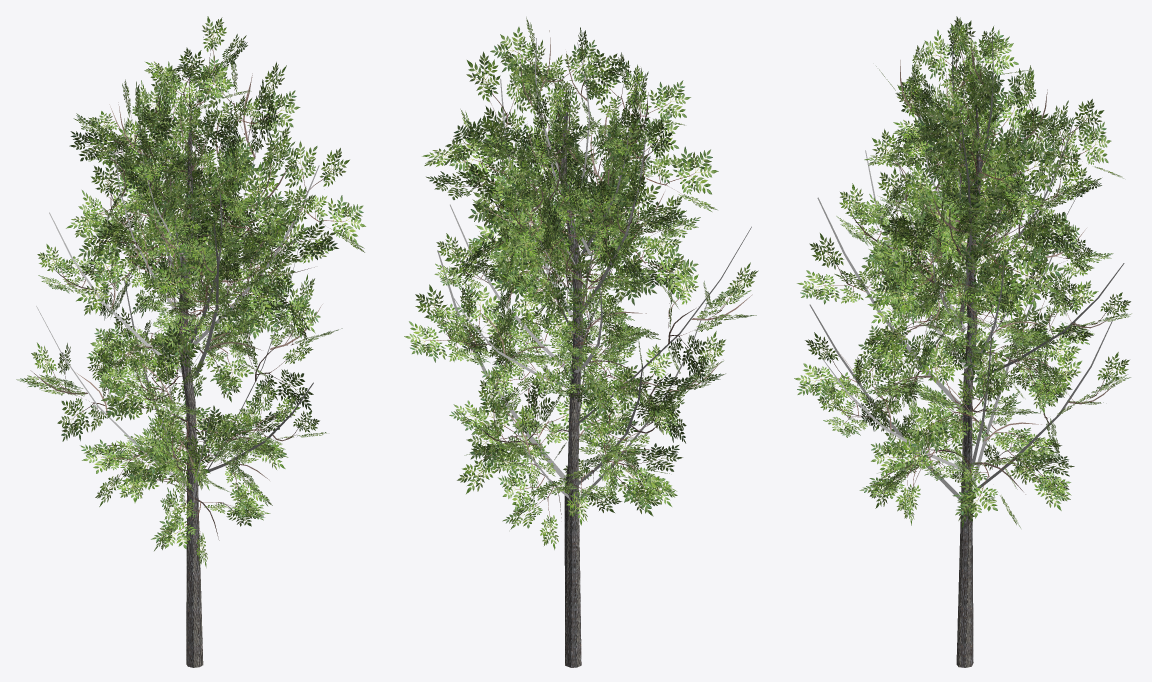
Rendered from tree2.fbx.
The picture shows the model from 3 angles, left to right: view 1: azimuth 30°, elevation 25°; view 2: azimuth 150°, elevation 25°; view 3: azimuth 270°, elevation 25°; orthographic projection. The views are drawn at different scales.
Visible parts, largest first — view 1: Mesh43 Component_1_1 Fraxinus___Green_Ash_Tree_1_1 Model, Mesh285 Component_13_108 Component_16_108 Component_3_108 Co, Mesh426 Component_13_163 Component_16_163 Component_3_163 Co, Mesh395 Component_13_151 Component_16_151 Component_3_151 Co, Mesh429 Component_13_164 Component_16_164 Component_3_164 Co, Mesh452 Component_13_173 Component_16_173 Component_3_173 Co, Mesh110 Component_13_42 Component_16_42 Component_3_42 Compo, Mesh107 Component_13_41 Component_16_41 Component_3_41 Compo, Mesh403 Component_13_154 Component_16_154 Component_3_154 Co, Mesh238 Component_13_91 Component_16_91 Component_3_91 Compo, Mesh22 Component_13_9 Component_16_9 Component_3_9 Component, Mesh68 Component_13_26 Component_16_26 Component_3_26 Compon (+52 smaller); view 2: Mesh43 Component_1_1 Fraxinus___Green_Ash_Tree_1_1 Model, Mesh302 Component_13_115 Component_16_115 Component_3_115 Co, Mesh297 Component_13_113 Component_16_113 Component_3_113 Co, Mesh258 Component_13_98 Component_16_98 Component_3_98 Compo, Mesh290 Component_13_110 Component_16_110 Component_3_110 Co, Mesh305 Component_13_116 Component_16_116 Component_3_116 Co, Mesh73 Component_13_28 Component_16_28 Component_3_28 Compon, Mesh300 Component_13_114 Component_16_114 Component_3_114 Co, Mesh333 Component_13_127 Component_16_127 Component_3_127 Co, Mesh310 Component_13_118 Component_16_118 Component_3_118 Co, Mesh249 Component_13_95 Component_16_95 Component_3_95 Compo, Mesh255 Component_13_97 Component_16_97 Component_3_97 Compo (+53 smaller); view 3: Mesh43 Component_1_1 Fraxinus___Green_Ash_Tree_1_1 Model, Mesh328 Component_13_125 Component_16_125 Component_3_125 Co, Mesh333 Component_13_127 Component_16_127 Component_3_127 Co, Mesh336 Component_13_128 Component_16_128 Component_3_128 Co, Mesh128 Component_13_49 Component_16_49 Component_3_49 Compo, Mesh131 Component_13_50 Component_16_50 Component_3_50 Compo, Mesh331 Component_13_126 Component_16_126 Component_3_126 Co, Mesh406 Component_13_155 Component_16_155 Component_3_155 Co, Mesh136 Component_13_52 Component_16_52 Component_3_52 Compo, Mesh400 Component_13_153 Component_16_153 Component_3_153 Co, Mesh364 Component_13_139 Component_16_139 Component_3_139 Co, Mesh125 Component_13_48 Component_16_48 Component_3_48 Compo (+51 smaller).
Boxes of the visible parts, x1,y1,x2,y2 form: Mesh43 Component_1_1 Fraxinus___Green_Ash_Tree_1_1 Model: (177,116,203,667); Mesh285 Component_13_108 Component_16_108 Component_3_108 Co: (78,216,146,268); Mesh426 Component_13_163 Component_16_163 Component_3_163 Co: (305,195,365,243); Mesh395 Component_13_151 Component_16_151 Component_3_151 Co: (227,191,289,231); Mesh429 Component_13_164 Component_16_164 Component_3_164 Co: (280,141,317,211); Mesh452 Component_13_173 Component_16_173 Component_3_173 Co: (187,405,239,463); Mesh110 Component_13_42 Component_16_42 Component_3_42 Compo: (101,380,166,419); Mesh107 Component_13_41 Component_16_41 Component_3_41 Compo: (156,325,200,388); Mesh403 Component_13_154 Component_16_154 Component_3_154 Co: (271,220,338,262); Mesh238 Component_13_91 Component_16_91 Component_3_91 Compo: (198,151,258,192); Mesh22 Component_13_9 Component_16_9 Component_3_9 Component: (177,238,214,306); Mesh68 Component_13_26 Component_16_26 Component_3_26 Compon: (57,398,106,441); Mesh43 Component_1_1 Fraxinus___Green_Ash_Tree_1_1 Model: (560,112,582,667); Mesh302 Component_13_115 Component_16_115 Component_3_115 Co: (646,146,718,194); Mesh297 Component_13_113 Component_16_113 Component_3_113 Co: (632,236,698,299); Mesh258 Component_13_98 Component_16_98 Component_3_98 Compo: (490,27,543,90); Mesh290 Component_13_110 Component_16_110 Component_3_110 Co: (588,251,656,305); Mesh305 Component_13_116 Component_16_116 Component_3_116 Co: (602,118,644,184); Mesh73 Component_13_28 Component_16_28 Component_3_28 Compon: (599,461,665,512); Mesh300 Component_13_114 Component_16_114 Component_3_114 Co: (613,174,660,245); Mesh333 Component_13_127 Component_16_127 Component_3_127 Co: (444,118,508,165); Mesh310 Component_13_118 Component_16_118 Component_3_118 Co: (449,133,511,200); Mesh249 Component_13_95 Component_16_95 Component_3_95 Compo: (628,80,690,120); Mesh255 Component_13_97 Component_16_97 Component_3_97 Compo: (545,40,600,81); Mesh43 Component_1_1 Fraxinus___Green_Ash_Tree_1_1 Model: (956,105,982,667); Mesh328 Component_13_125 Component_16_125 Component_3_125 Co: (986,234,1064,308); Mesh333 Component_13_127 Component_16_127 Component_3_127 Co: (980,136,1060,191); Mesh336 Component_13_128 Component_16_128 Component_3_128 Co: (914,105,977,179); Mesh128 Component_13_49 Component_16_49 Component_3_49 Compo: (958,335,1010,411); Mesh131 Component_13_50 Component_16_50 Component_3_50 Compo: (905,405,972,453); Mesh331 Component_13_126 Component_16_126 Component_3_126 Co: (954,166,1008,245); Mesh406 Component_13_155 Component_16_155 Component_3_155 Co: (940,235,1004,286); Mesh136 Component_13_52 Component_16_52 Component_3_52 Compo: (952,462,997,518); Mesh400 Component_13_153 Component_16_153 Component_3_153 Co: (915,191,959,267); Mesh364 Component_13_139 Component_16_139 Component_3_139 Co: (1062,122,1111,164); Mesh125 Component_13_48 Component_16_48 Component_3_48 Compo: (797,270,865,304).
Size of the model in its own units: 381 by 778 by 375.
4 materials, 2 textured.
